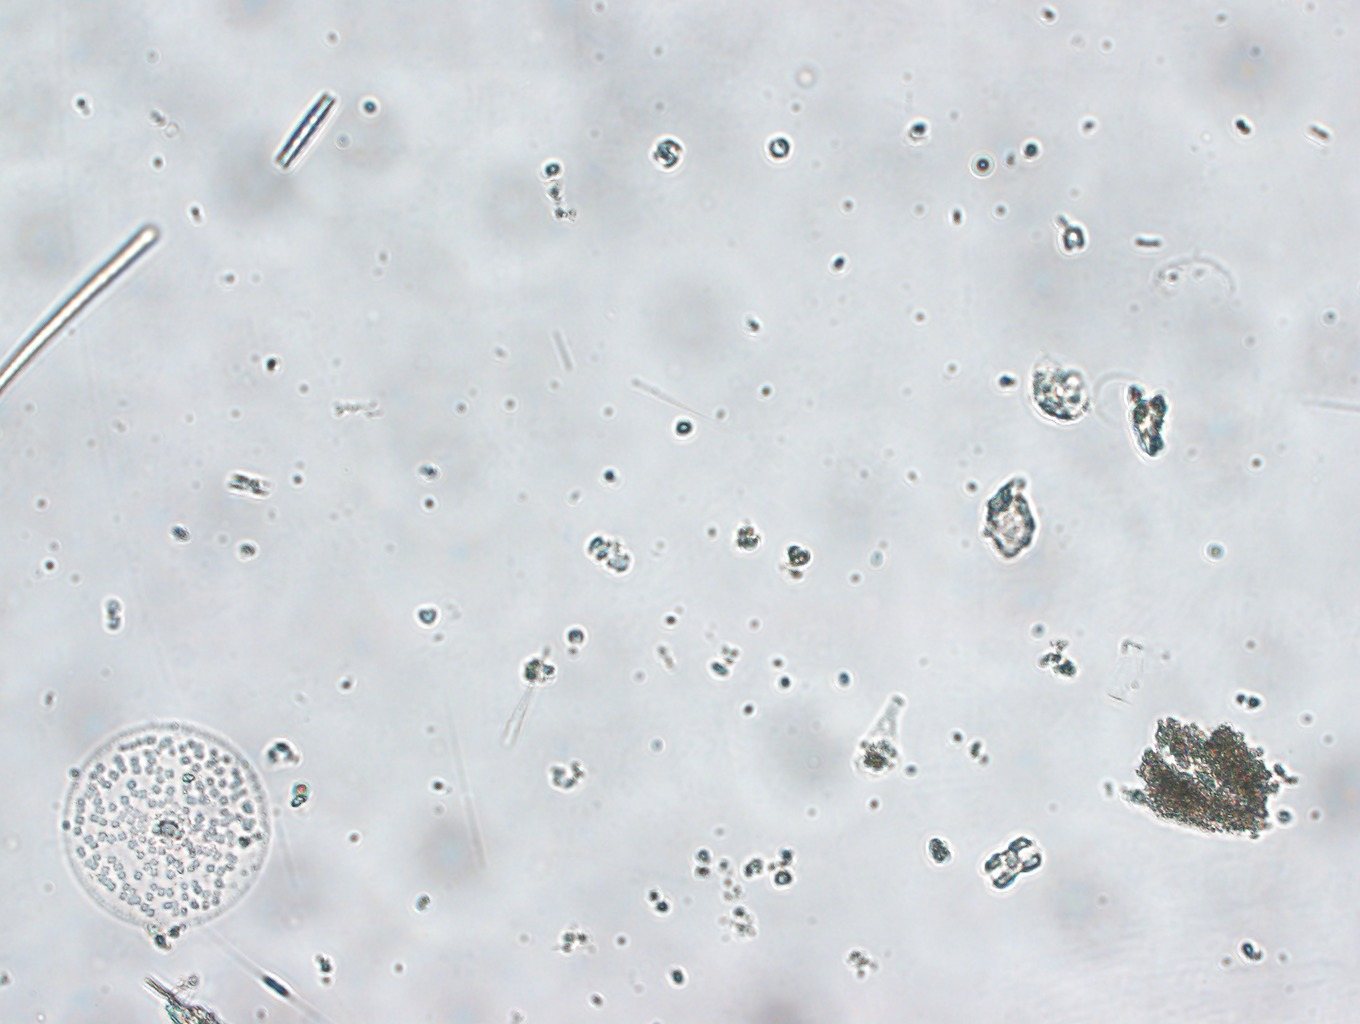coscinodiscus: (55, 719, 275, 937)
